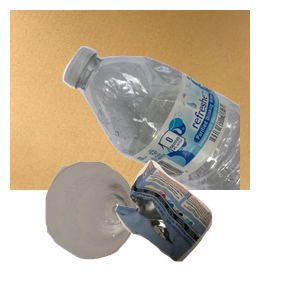cardboard: (10, 10, 250, 190)
glass: (43, 159, 187, 300)
plastic: (60, 44, 300, 224)
trash: (113, 157, 300, 300)
